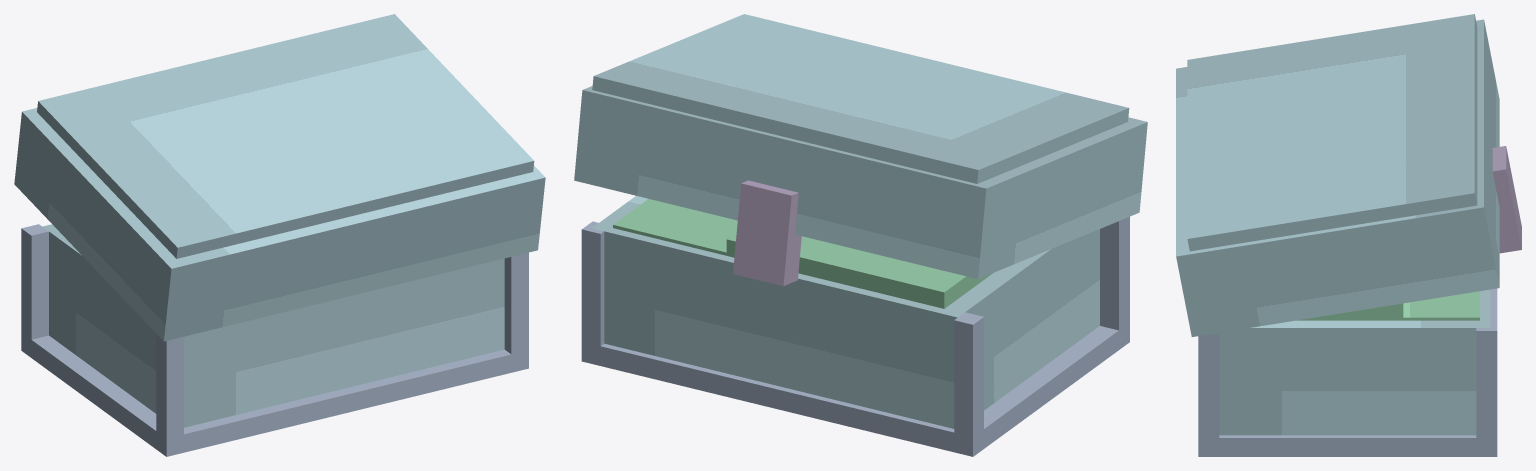
Rendered from IAShopChestOpen.gltf.
3 views of the same model, side by side, from view 1: azimuth 30°, elevation 25°; view 2: azimuth 150°, elevation 25°; view 3: azimuth 270°, elevation 25° (orthographic). The views are drawn at different scales.
Parts seen in each view (by area): view 1: 35537e47-b1a4-7860-8c4f-06f47b93dfc7, df0d8bd0-1d3f-83d3-ddca-d650381cd625, db227c90-b457-0047-380e-946e9ef17cd7, 419491ba-918e-811b-befa-73aa12201fdd, 2de74b60-d99b-a9bd-3cb2-233347d7b294, 231a7d81-77aa-eb57-9a25-805bb004ba25, cab9297c-a058-c592-073f-c8330591830d, efefb59d-fcf8-b9d0-eab6-0c3447c30704; view 2: db227c90-b457-0047-380e-946e9ef17cd7, df0d8bd0-1d3f-83d3-ddca-d650381cd625, 35537e47-b1a4-7860-8c4f-06f47b93dfc7, fe75ef3b-b461-c687-b3ff-53ad344db169, 02f91c6a-2fd3-321b-600d-8012be6705af, ebaf4a0f-1fcf-09b6-4623-2fe983561b47, 2de74b60-d99b-a9bd-3cb2-233347d7b294, 231a7d81-77aa-eb57-9a25-805bb004ba25, 01d678b6-2439-c50e-7c60-b8f005b62f88, cab9297c-a058-c592-073f-c8330591830d, 833fec28-f1c9-ffb5-f959-f7fe429ad99f; view 3: 35537e47-b1a4-7860-8c4f-06f47b93dfc7, df0d8bd0-1d3f-83d3-ddca-d650381cd625, db227c90-b457-0047-380e-946e9ef17cd7, d7f0e7dc-7b43-d68e-fa02-a862cbf1ea11, 833fec28-f1c9-ffb5-f959-f7fe429ad99f, efefb59d-fcf8-b9d0-eab6-0c3447c30704, ebaf4a0f-1fcf-09b6-4623-2fe983561b47, 01d678b6-2439-c50e-7c60-b8f005b62f88, d44e32ad-74b4-d78e-ca8f-75abae94ad6e.
Boxes of the visible parts, left/top/right/bottom form: 35537e47-b1a4-7860-8c4f-06f47b93dfc7: left=37, top=14, right=534, bottom=258; df0d8bd0-1d3f-83d3-ddca-d650381cd625: left=14, top=108, right=545, bottom=341; db227c90-b457-0047-380e-946e9ef17cd7: left=42, top=224, right=504, bottom=427; 419491ba-918e-811b-befa-73aa12201fdd: left=178, top=349, right=511, bottom=452; 2de74b60-d99b-a9bd-3cb2-233347d7b294: left=31, top=335, right=156, bottom=448; 231a7d81-77aa-eb57-9a25-805bb004ba25: left=21, top=224, right=48, bottom=357; cab9297c-a058-c592-073f-c8330591830d: left=156, top=334, right=183, bottom=456; efefb59d-fcf8-b9d0-eab6-0c3447c30704: left=504, top=252, right=528, bottom=372; db227c90-b457-0047-380e-946e9ef17cd7: left=592, top=196, right=1099, bottom=428; df0d8bd0-1d3f-83d3-ddca-d650381cd625: left=574, top=86, right=1147, bottom=278; 35537e47-b1a4-7860-8c4f-06f47b93dfc7: left=592, top=14, right=1129, bottom=183; fe75ef3b-b461-c687-b3ff-53ad344db169: left=600, top=343, right=954, bottom=452; 02f91c6a-2fd3-321b-600d-8012be6705af: left=726, top=232, right=984, bottom=308; ebaf4a0f-1fcf-09b6-4623-2fe983561b47: left=733, top=180, right=801, bottom=286; 2de74b60-d99b-a9bd-3cb2-233347d7b294: left=984, top=326, right=1118, bottom=448; 231a7d81-77aa-eb57-9a25-805bb004ba25: left=954, top=312, right=983, bottom=456; 01d678b6-2439-c50e-7c60-b8f005b62f88: left=613, top=199, right=737, bottom=256; cab9297c-a058-c592-073f-c8330591830d: left=1100, top=216, right=1129, bottom=349; 833fec28-f1c9-ffb5-f959-f7fe429ad99f: left=581, top=221, right=604, bottom=365; 35537e47-b1a4-7860-8c4f-06f47b93dfc7: left=1187, top=14, right=1477, bottom=251; df0d8bd0-1d3f-83d3-ddca-d650381cd625: left=1176, top=19, right=1499, bottom=336; db227c90-b457-0047-380e-946e9ef17cd7: left=1219, top=289, right=1490, bottom=435; d7f0e7dc-7b43-d68e-fa02-a862cbf1ea11: left=1219, top=435, right=1476, bottom=456; 833fec28-f1c9-ffb5-f959-f7fe429ad99f: left=1476, top=322, right=1497, bottom=456; efefb59d-fcf8-b9d0-eab6-0c3447c30704: left=1198, top=333, right=1219, bottom=456; ebaf4a0f-1fcf-09b6-4623-2fe983561b47: left=1492, top=146, right=1521, bottom=253; 01d678b6-2439-c50e-7c60-b8f005b62f88: left=1403, top=291, right=1479, bottom=320; d44e32ad-74b4-d78e-ca8f-75abae94ad6e: left=1297, top=303, right=1403, bottom=320.
Bounding box in the file's own units: 6.4 × 4.19 × 4.98.
Materials: 4 (4 with a texture image).
